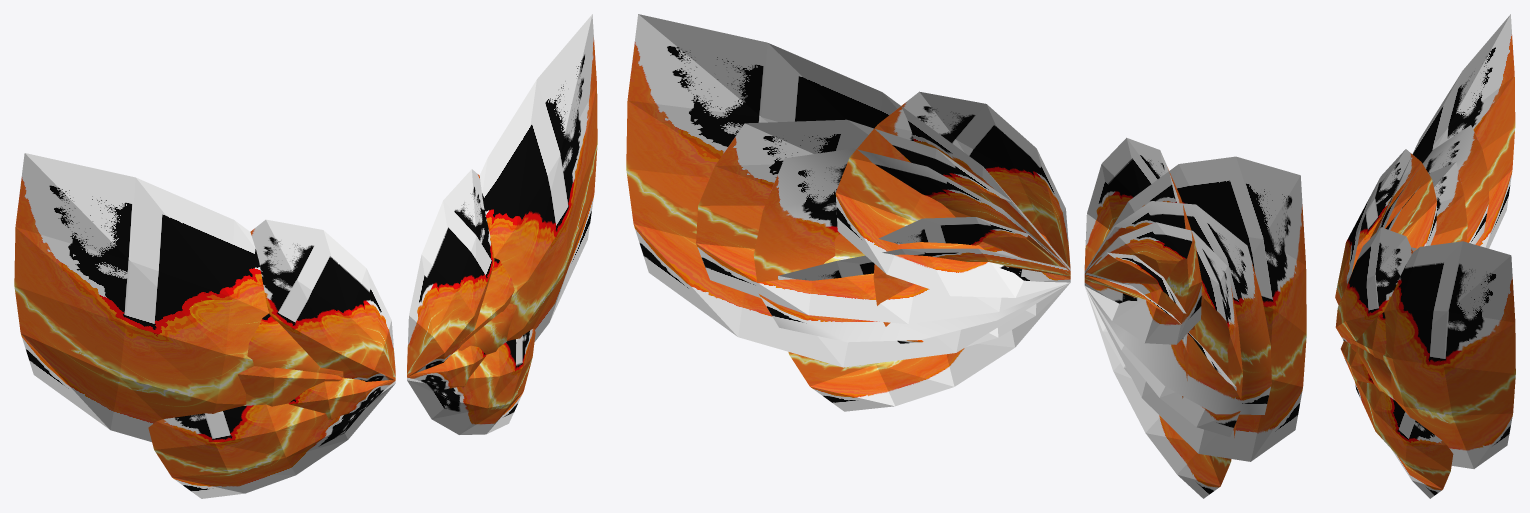
The model's file is fx_wing_mesh003.FBX.
3 views of the same model, side by side, from view 1: azimuth 30°, elevation 25°; view 2: azimuth 150°, elevation 25°; view 3: azimuth 270°, elevation 25° (orthographic). The views are drawn at different scales.
Parts seen in each view (by area): view 1: Plane_L, Plane_R; view 2: Plane_R, Plane_L; view 3: Plane_R, Plane_L.
Part boxes in pixels (x1,y1,x2,y2): Plane_L: (14, 153, 395, 498); Plane_R: (407, 14, 597, 434); Plane_R: (626, 14, 1070, 411); Plane_L: (1084, 137, 1306, 498); Plane_R: (1335, 227, 1515, 498); Plane_L: (1335, 14, 1515, 304).
Bounding box in the file's own units: 328 × 185 × 101.
